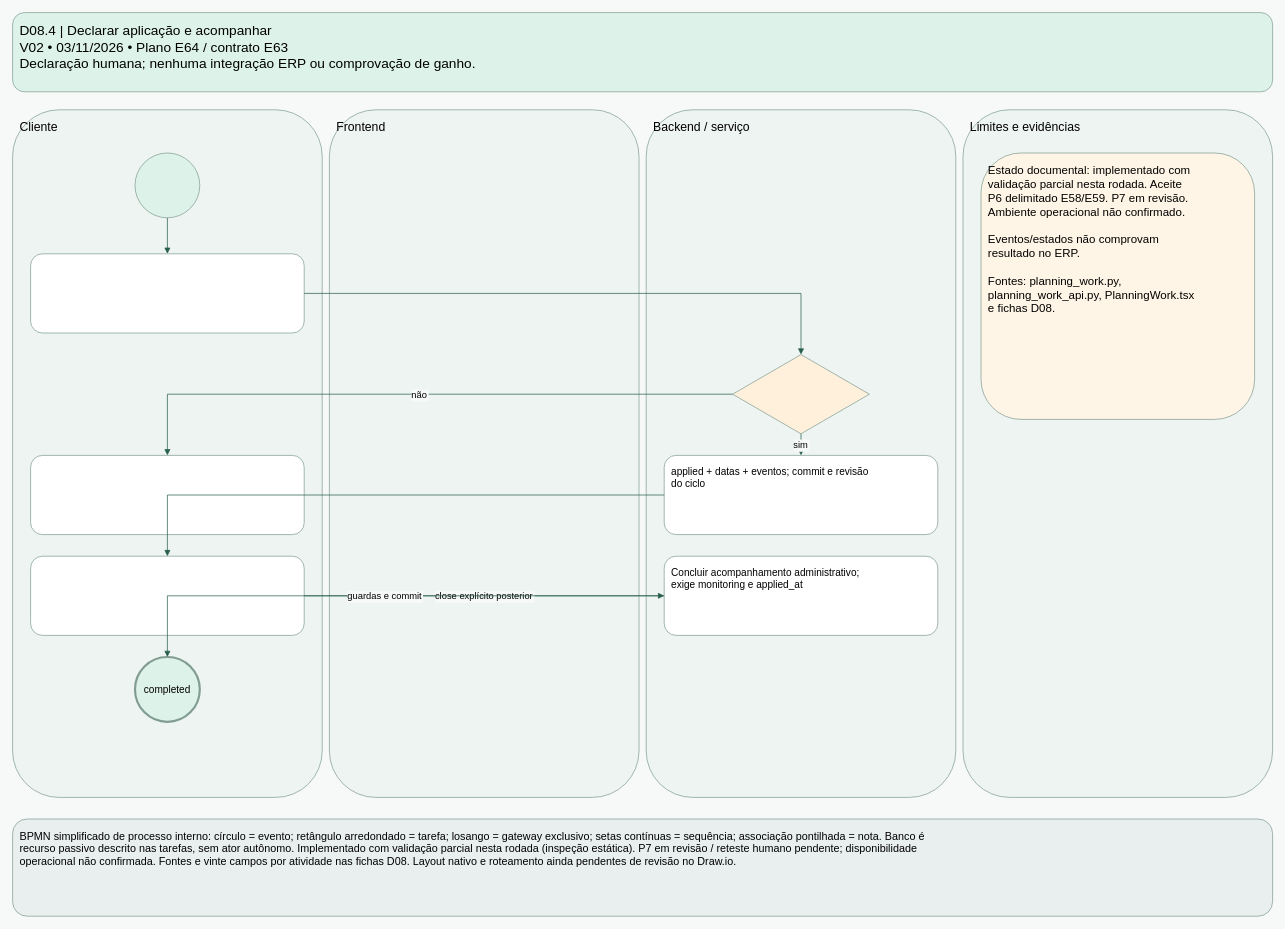
Image size: 1285x929. Some labels were removed from this diagram. Here are the shapes that lost their labels. From the top down, the centre of each, then its label:
point (167, 185): exported
point (167, 293): D08-A07 Declarar aplicação no sistema do cliente; referência opcional
point (800, 394): Evidência atual e elegível?
point (167, 495): Bloquear declaração; revisar fonte/proposta e ciclo
point (167, 595): D08-A08 Mover para Em acompanhamento
